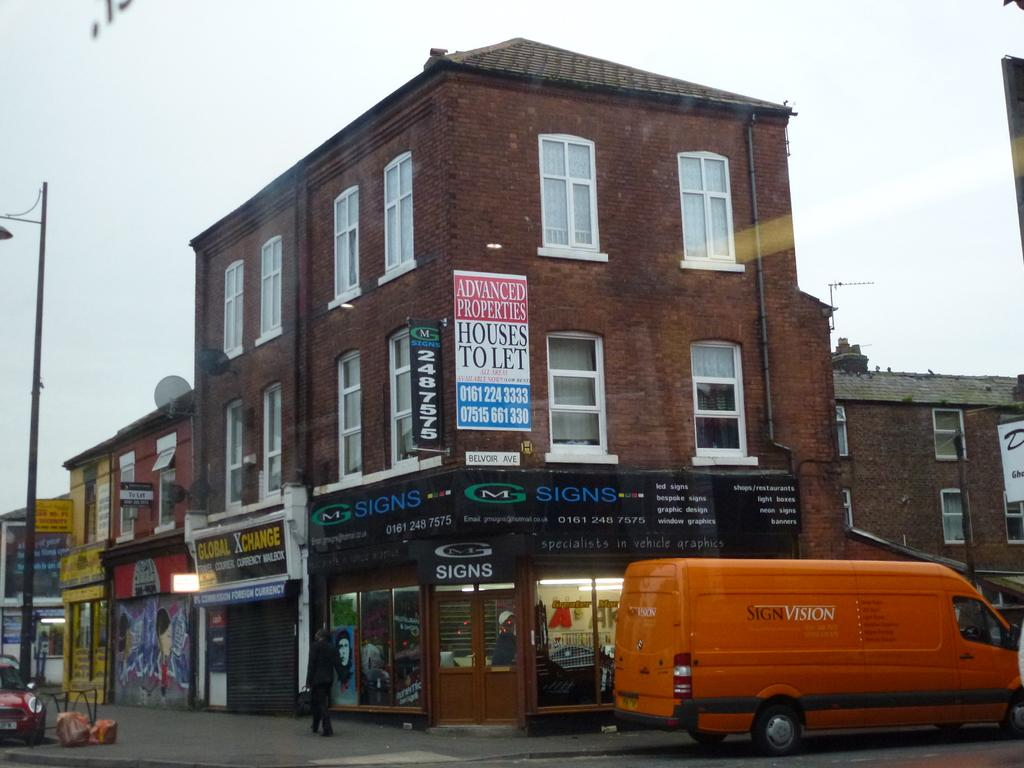vehicle: (610, 558, 1024, 754), (1, 661, 47, 746)
